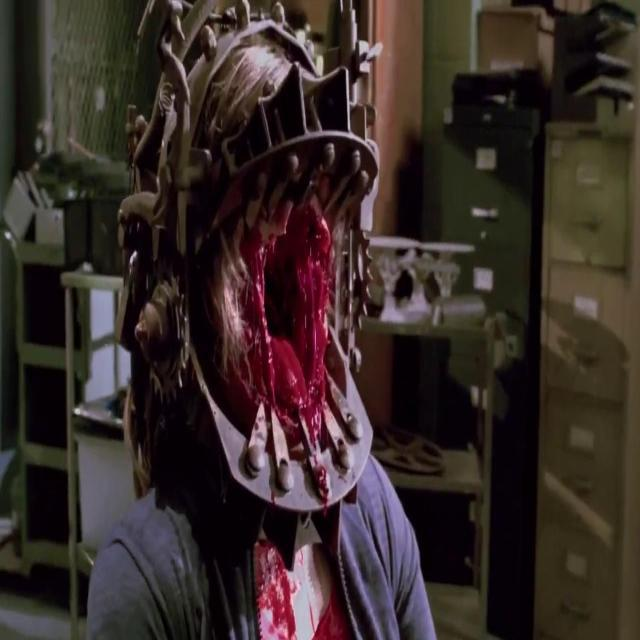flood: (228, 200, 348, 487)
